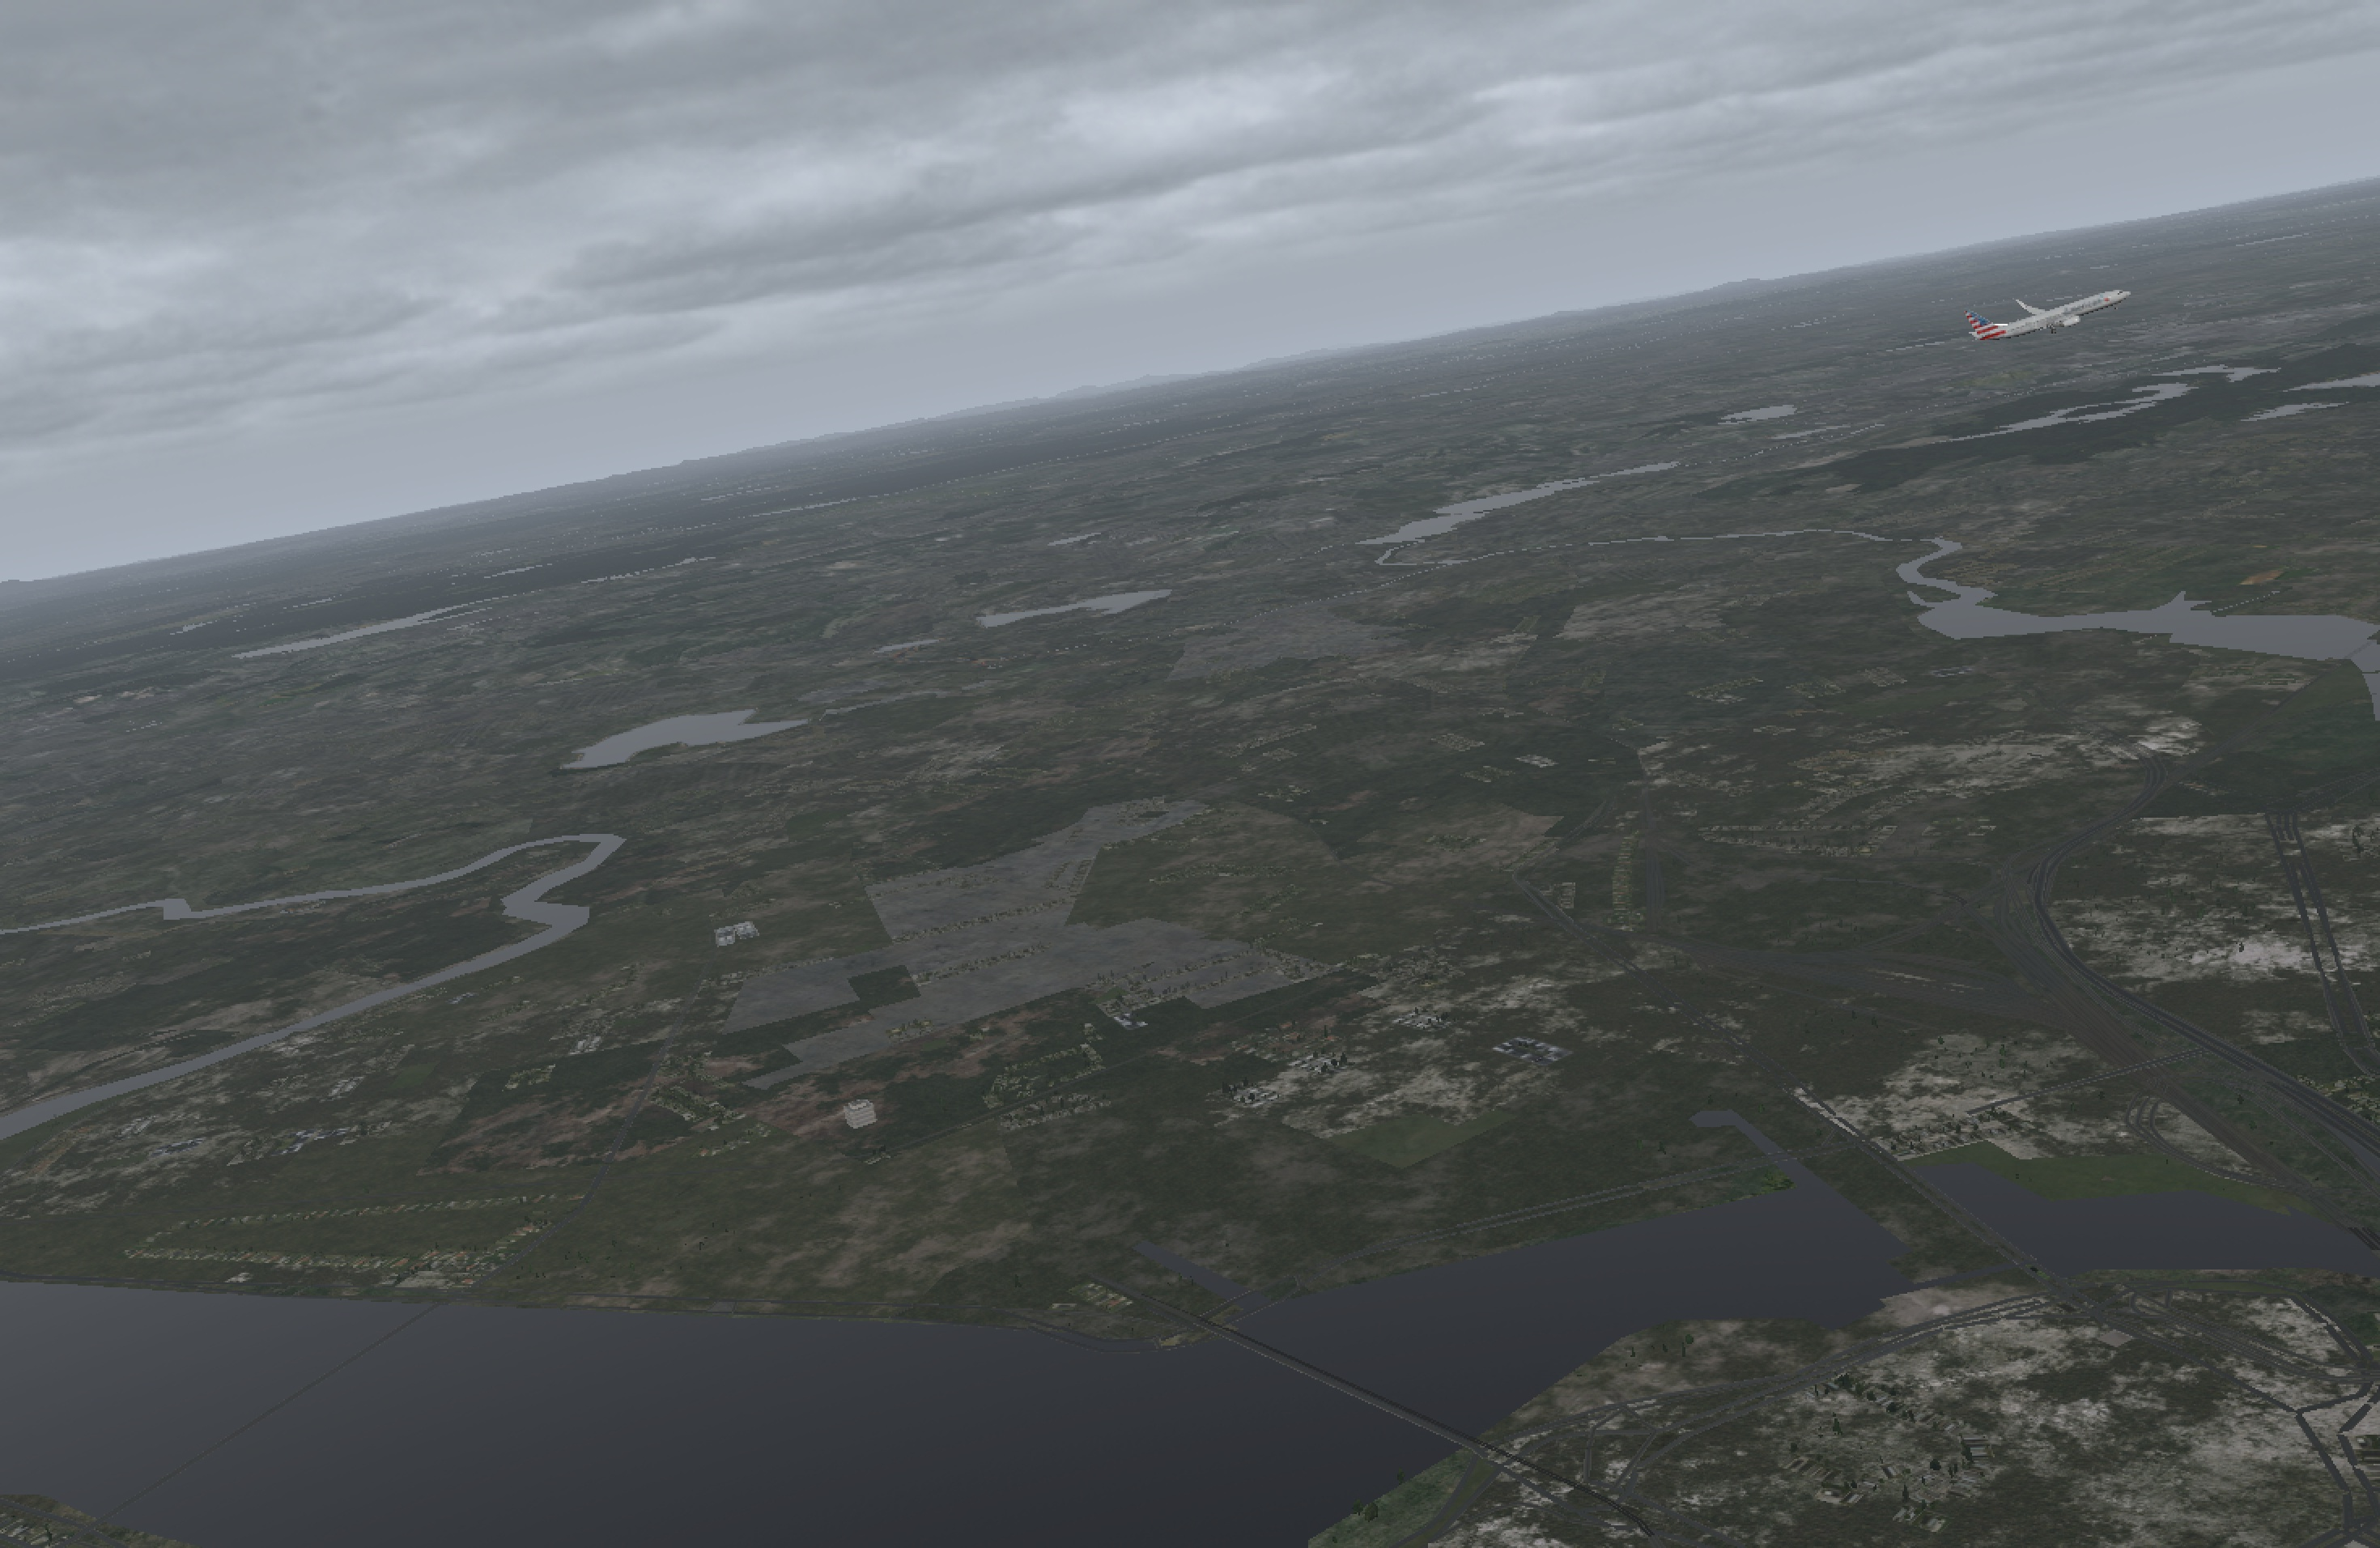aircraft: (1988, 293, 2125, 344)
